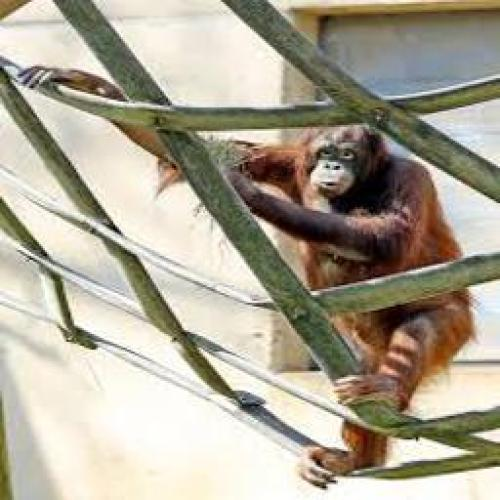orangutan-endangered: (15, 62, 478, 488)
